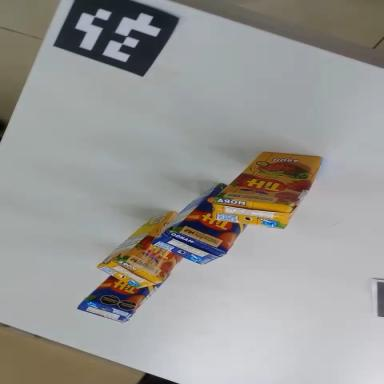HIT-MANGO: (152, 175, 261, 285), (77, 252, 162, 339)
HIT-MORA: (97, 197, 204, 307), (212, 146, 322, 232)
cara_F: (176, 178, 258, 264), (122, 208, 204, 290), (217, 147, 322, 208), (84, 271, 155, 316)
